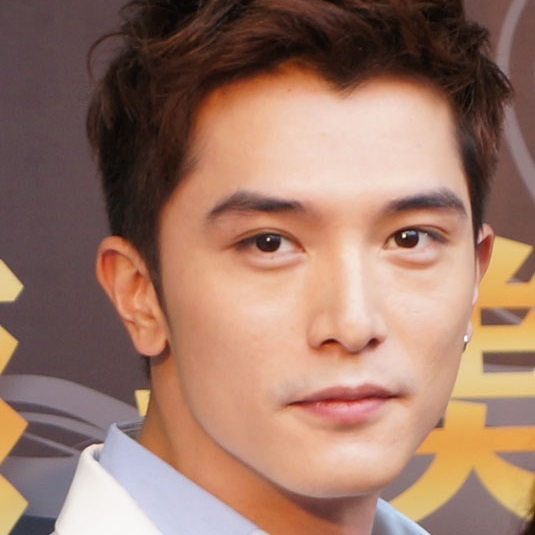unmask: (154, 115, 473, 503)
